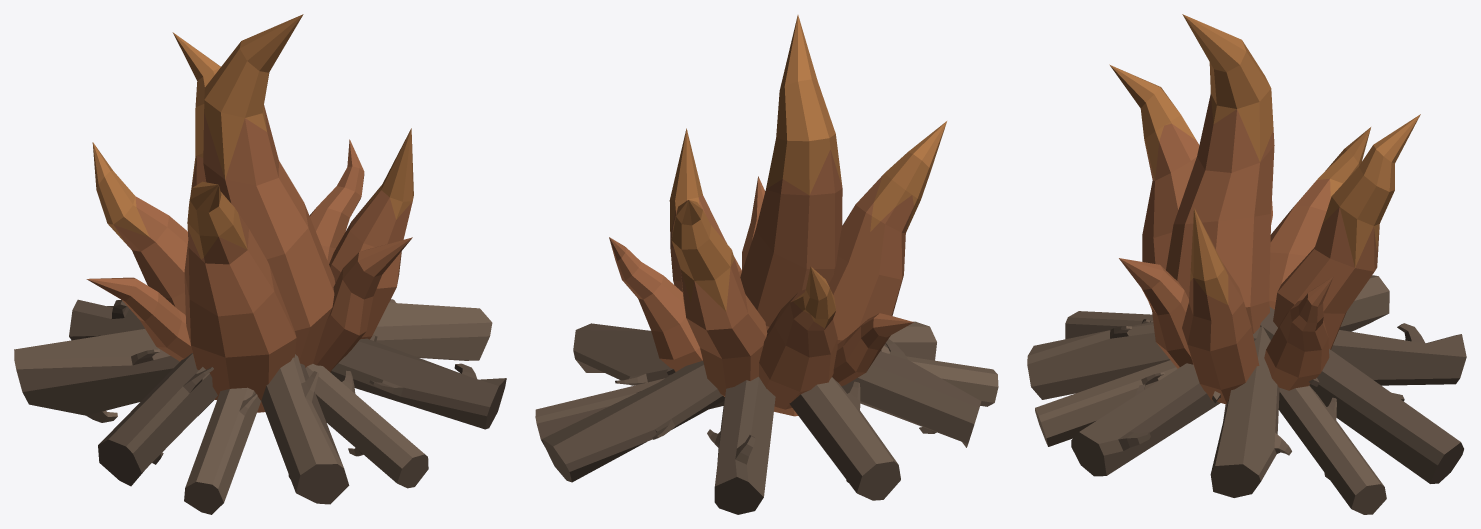
File: fire.fbx
3 views of the same model, side by side, from view 1: azimuth 30°, elevation 25°; view 2: azimuth 150°, elevation 25°; view 3: azimuth 270°, elevation 25° (orthographic). The views are drawn at different scales.
Parts seen in each view (by area): view 1: fire, firewood; view 2: fire, firewood; view 3: fire, firewood.
Part boxes in pixels (x1=…): fire: x1=86, y1=14, x2=413, y2=412; firewood: x1=14, y1=299, x2=506, y2=514; fire: x1=609, y1=15, x2=946, y2=416; firewood: x1=535, y1=321, x2=998, y2=514; fire: x1=1109, y1=14, x2=1420, y2=404; firewood: x1=1027, y1=275, x2=1466, y2=514.
Bounding box in the file's own units: 625 × 644 × 611.
